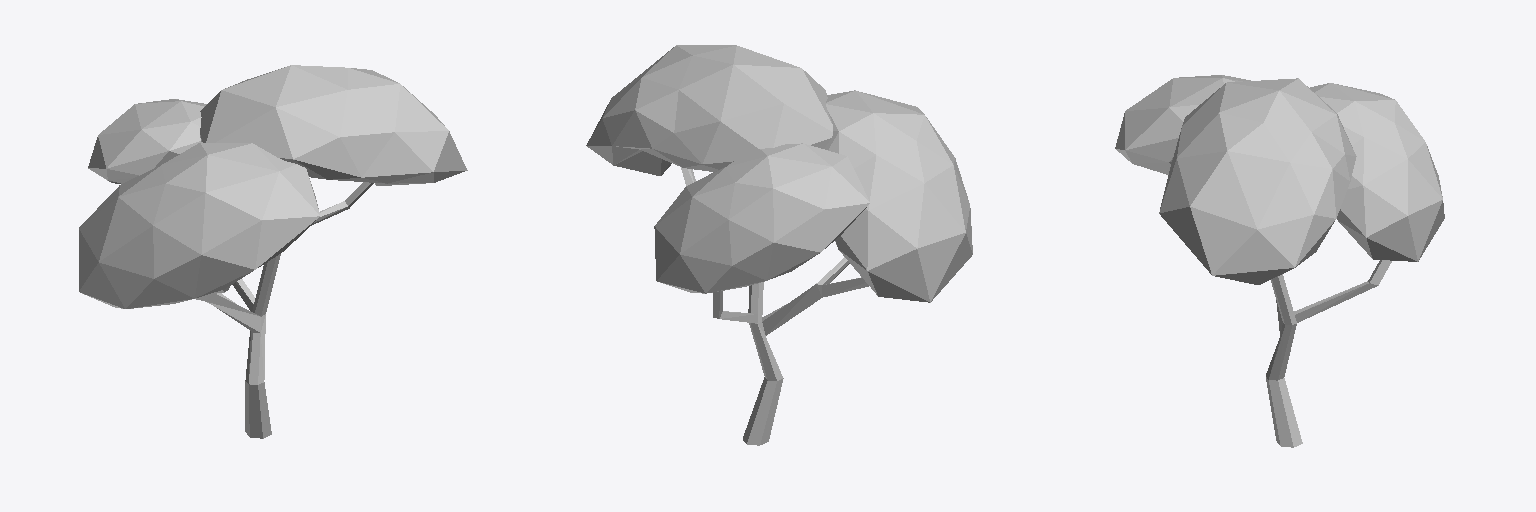
The model's file is Arbol1.obj.
3 views of the same model, side by side, from view 1: azimuth 30°, elevation 25°; view 2: azimuth 150°, elevation 25°; view 3: azimuth 270°, elevation 25° (orthographic).
Parts seen in each view (by area): view 1: Tree_Type3_03_Model_Circle.015; view 2: Tree_Type3_03_Model_Circle.015; view 3: Tree_Type3_03_Model_Circle.015.
Part boxes in pixels (bbox=[...]): Tree_Type3_03_Model_Circle.015: bbox=[79, 65, 467, 438]; Tree_Type3_03_Model_Circle.015: bbox=[586, 45, 972, 445]; Tree_Type3_03_Model_Circle.015: bbox=[1115, 75, 1444, 447].
Size of the model in its own units: 4.44 by 4.37 by 3.57.